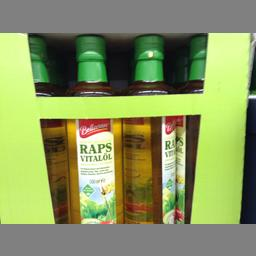oil: (120, 34, 177, 224), (65, 36, 122, 222)
